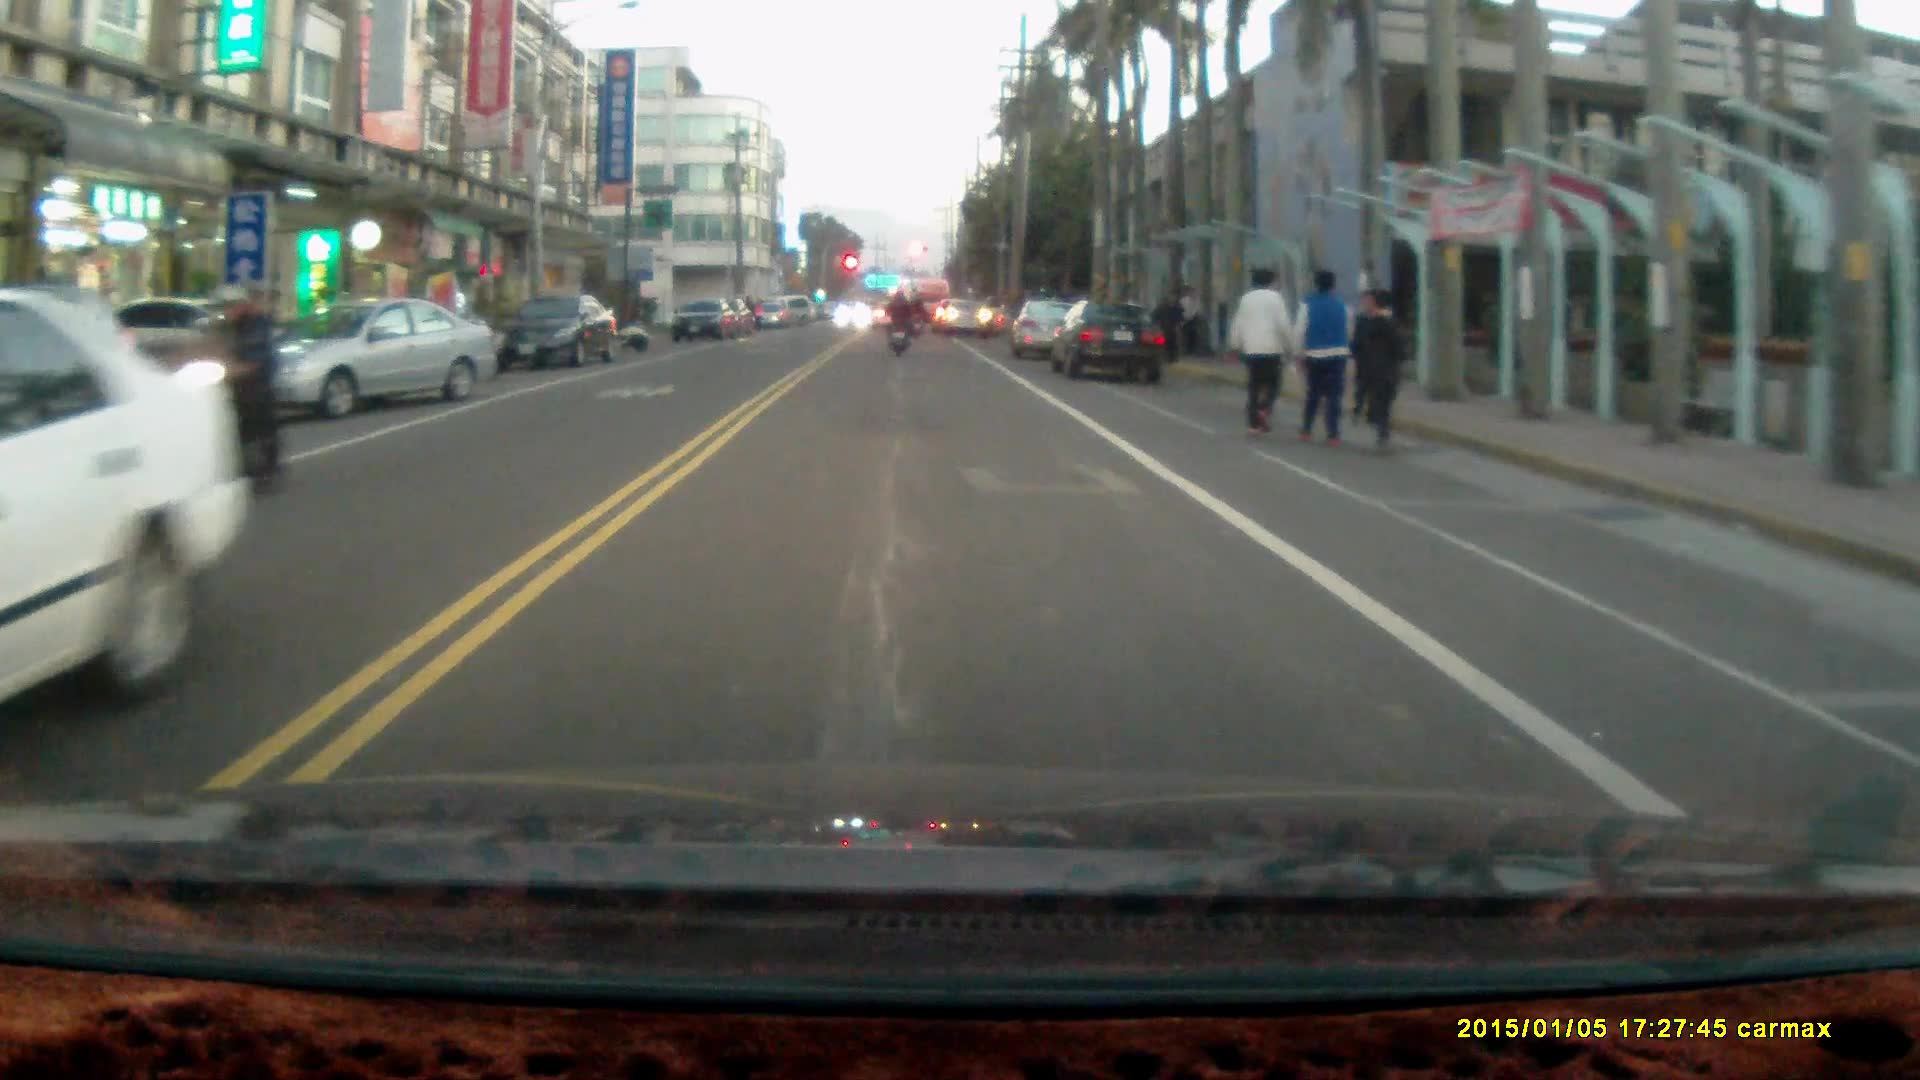pedestrian: (1285, 264, 1355, 449), (1230, 262, 1295, 439), (1354, 286, 1410, 453), (1152, 282, 1187, 362), (1174, 280, 1204, 361)
rider: (151, 279, 281, 512), (882, 284, 913, 355)
vehicle: (1, 294, 252, 735), (240, 296, 505, 414), (1050, 294, 1171, 380), (502, 290, 619, 368), (1014, 300, 1088, 363), (670, 300, 743, 345)
